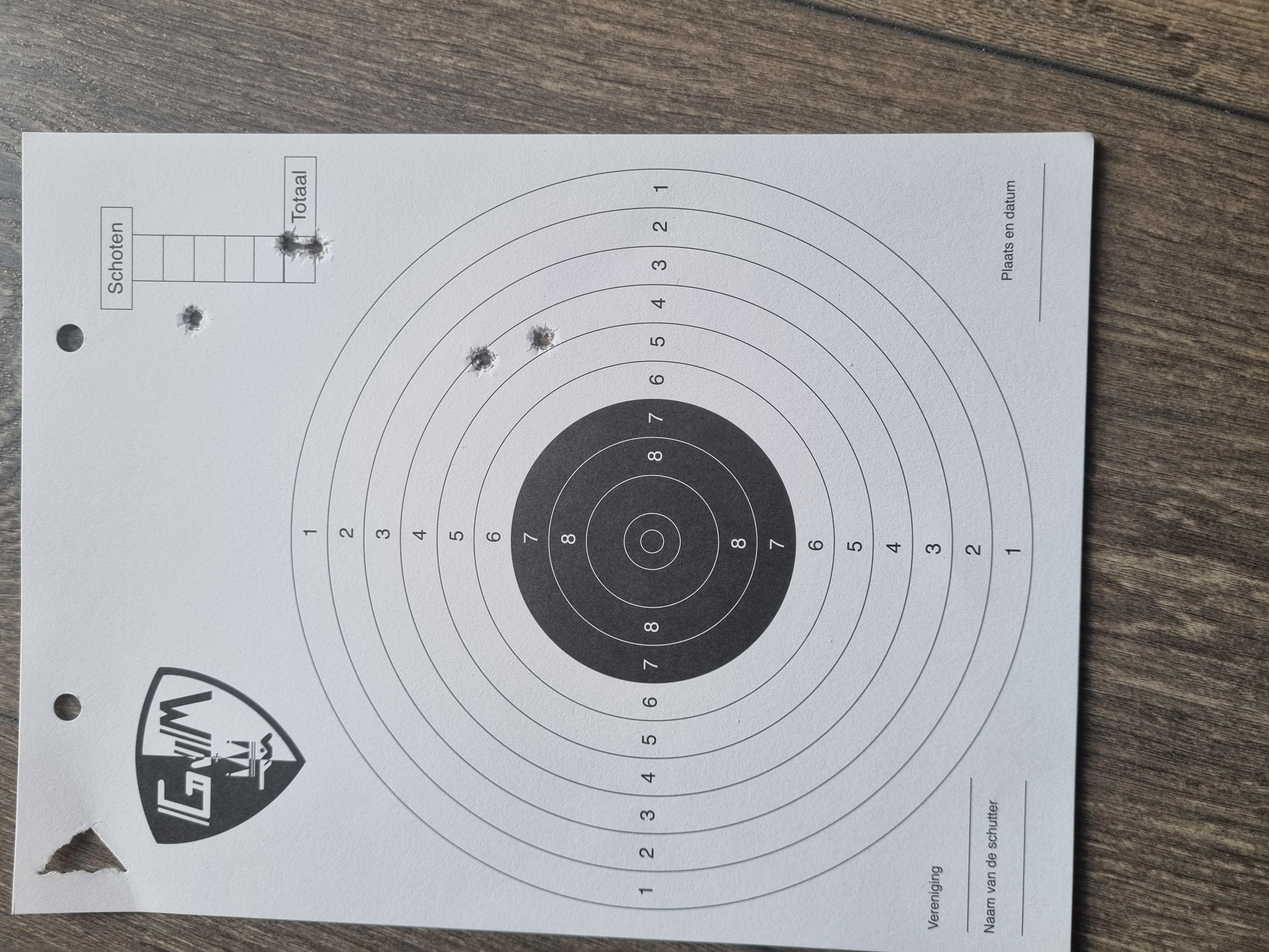hole: (921, 228, 967, 250), (920, 206, 968, 227), (801, 393, 839, 419), (821, 132, 863, 155), (769, 350, 810, 372)
